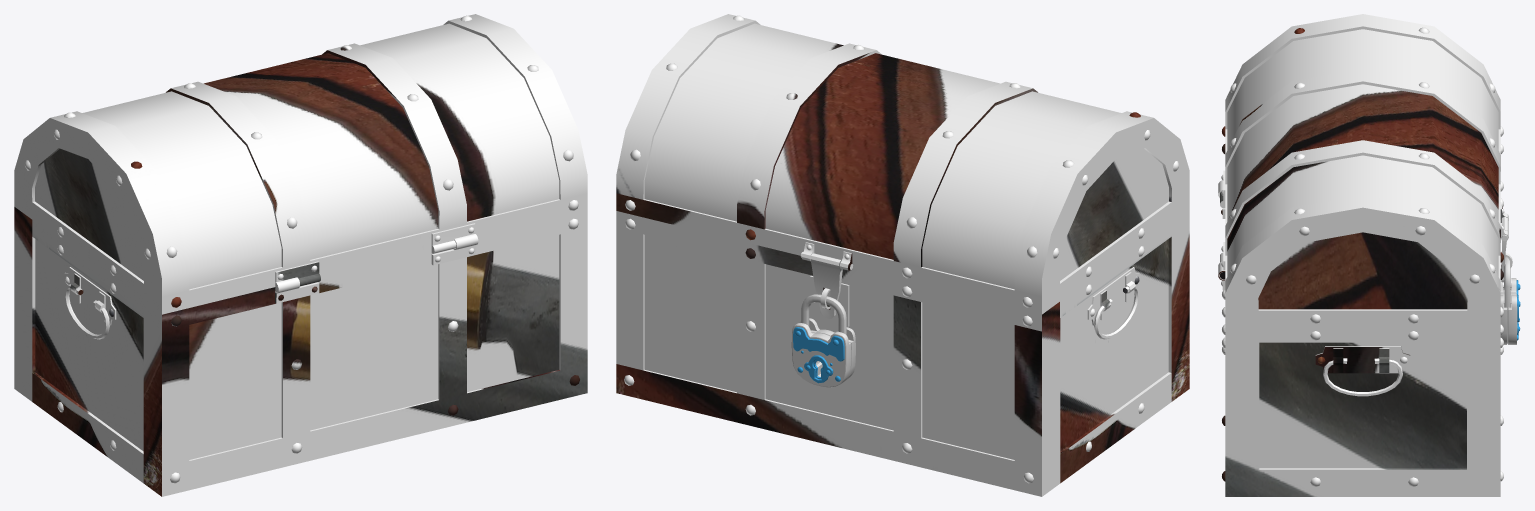
File: CHEST2pdlock.fbx
3 renders of one model, left to right at view 1: azimuth 30°, elevation 25°; view 2: azimuth 150°, elevation 25°; view 3: azimuth 270°, elevation 25°, orthographic. The views are drawn at different scales.
Visible parts, largest first — view 1: object 8, object 7; view 2: object 8, object 7, Body, Details, Lock; view 3: object 8, object 7, Body, Lock.
Boxes of the visible parts, bbox=[...] form: object 8: bbox=[14, 14, 587, 314]; object 7: bbox=[14, 207, 587, 496]; object 8: bbox=[616, 14, 1189, 318]; object 7: bbox=[616, 207, 1189, 496]; Body: bbox=[791, 318, 855, 387]; Details: bbox=[793, 327, 844, 383]; Lock: bbox=[801, 294, 846, 334]; object 8: bbox=[1220, 14, 1508, 326]; object 7: bbox=[1218, 144, 1512, 496]; Body: bbox=[1500, 278, 1517, 344]; Lock: bbox=[1504, 256, 1510, 308].
Size of the model in its own units: 3533 by 2415 by 2285.
